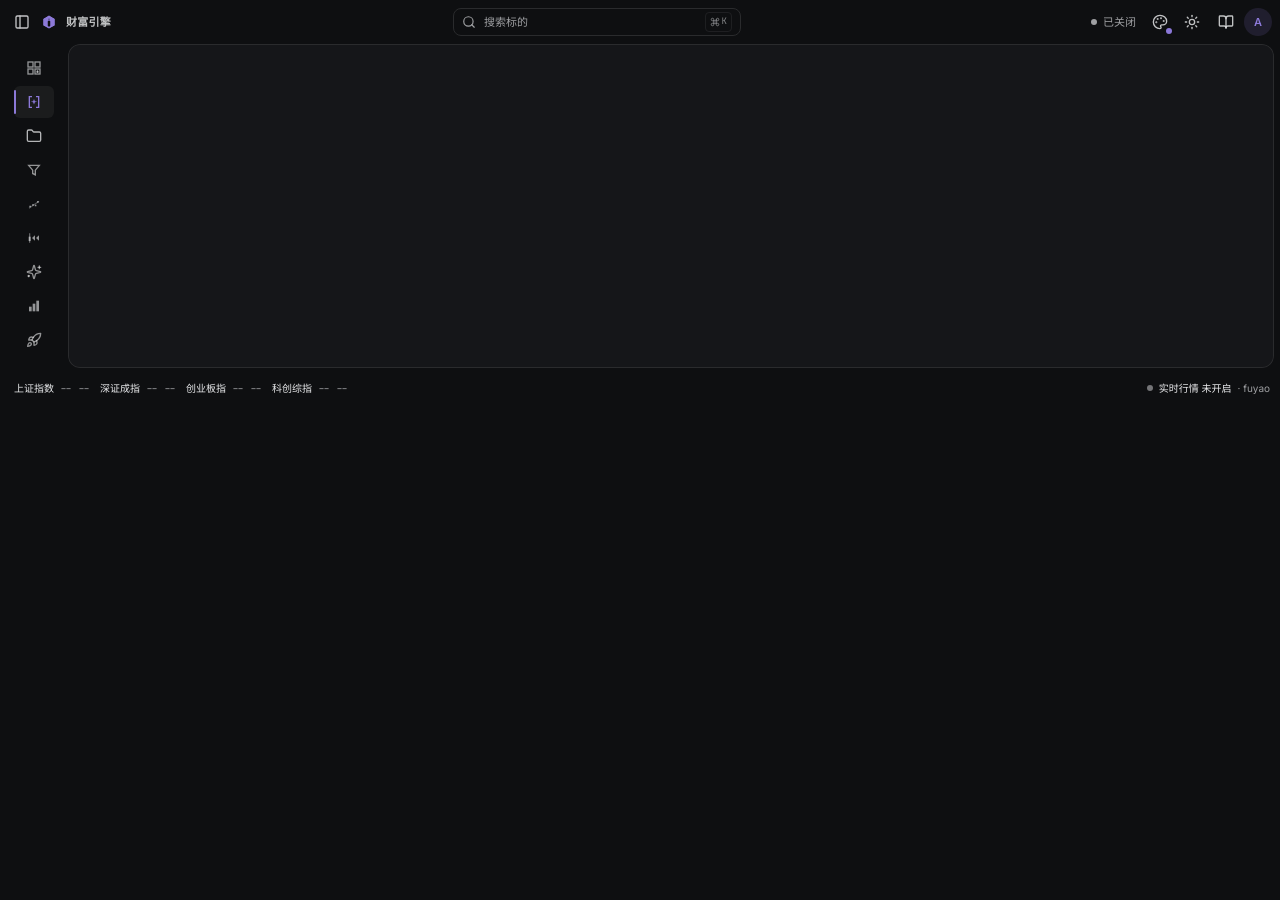
Test case: does not fetch root watchlist statistics when an unrelated rail folder opens
The image size is (1280, 900).
Click the link to "/screener" at x=34, y=170, box [26,162,42,178]
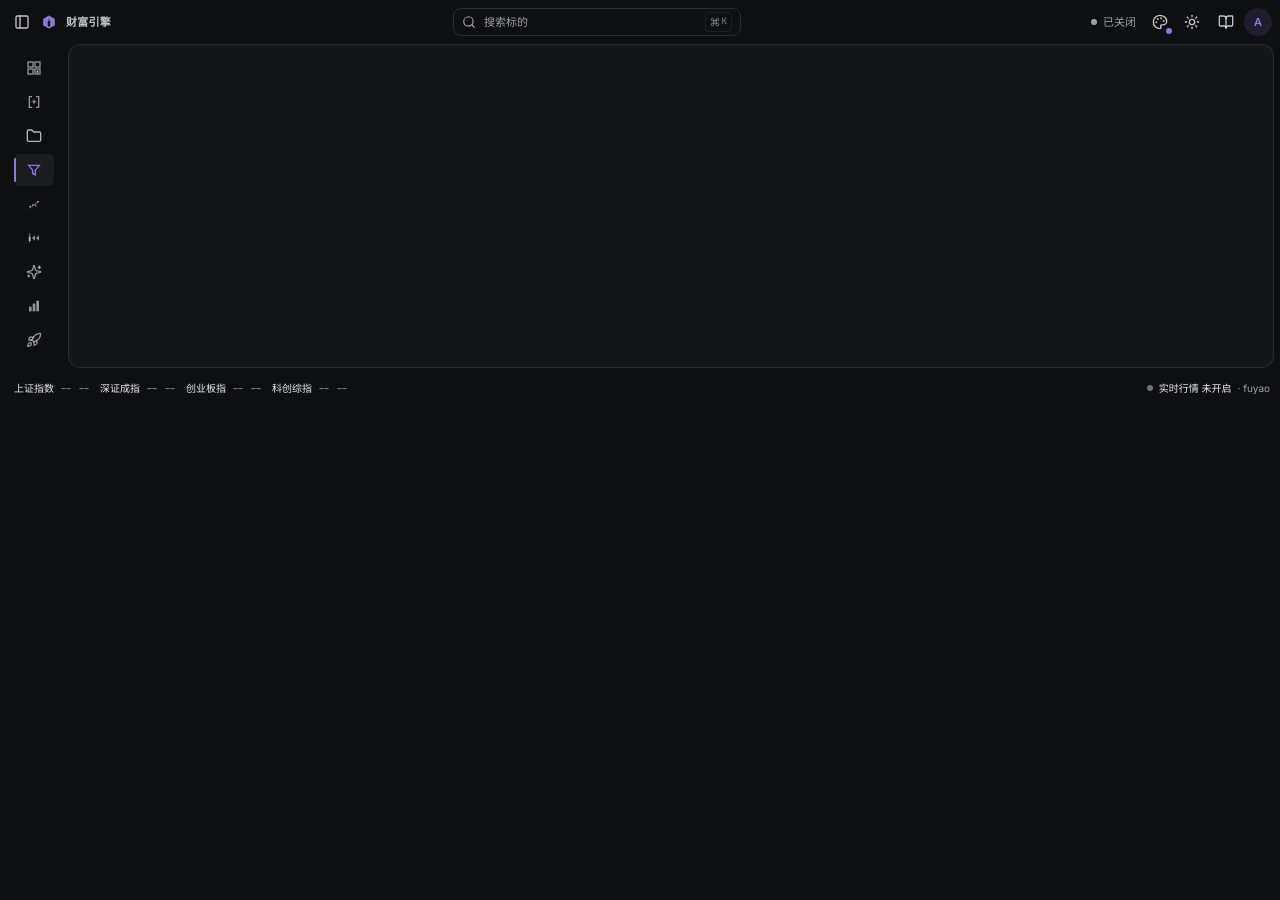
Click the button named "市场工具" at x=34, y=136, box [14,120,54,152]
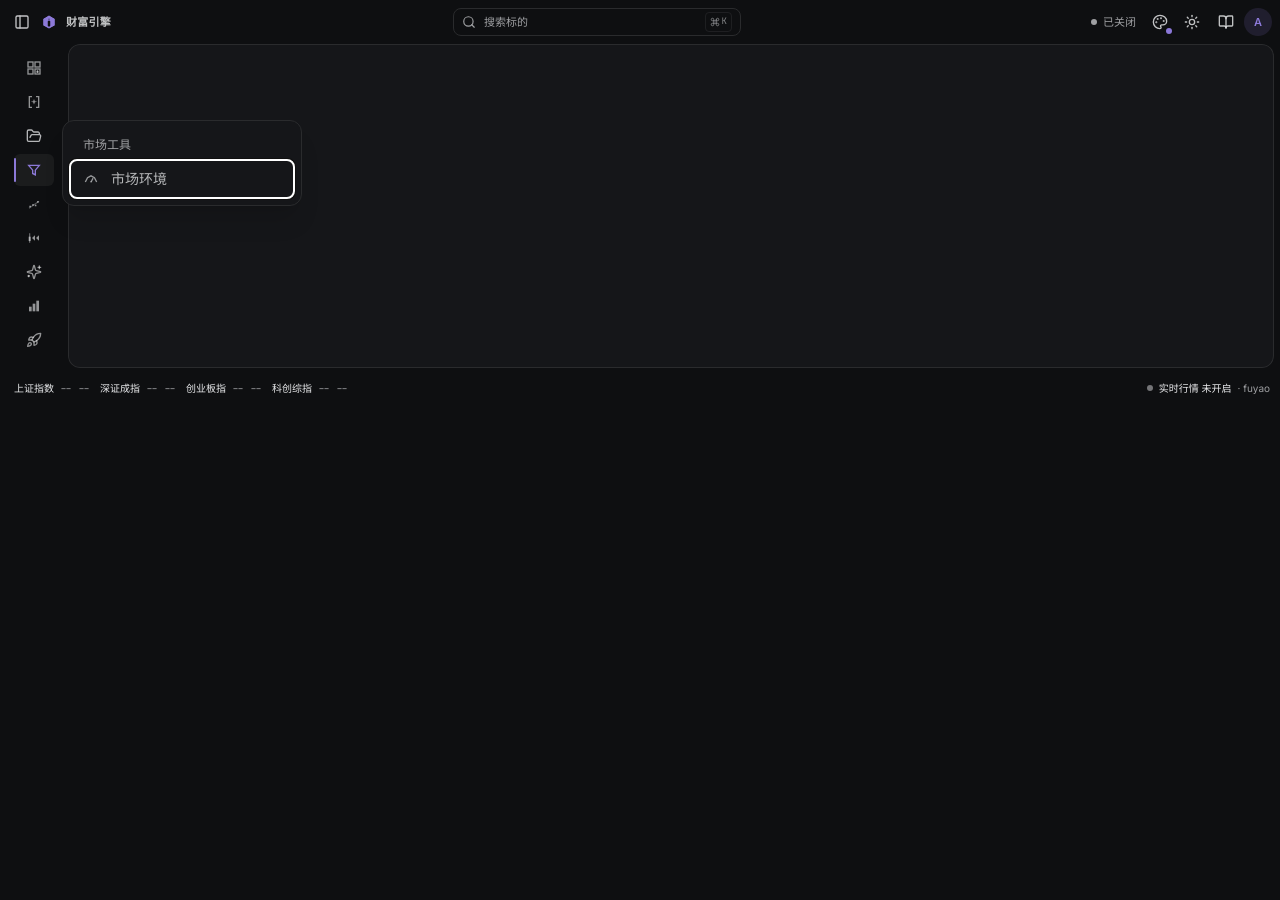
Expected: the dialog named "市场工具子菜单" is shown, [62,120,302,206]
